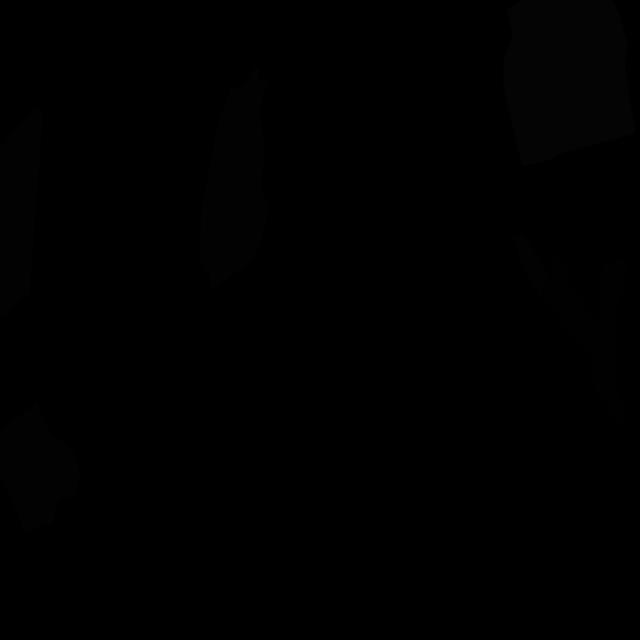cardboard: (200, 67, 270, 291), (0, 403, 80, 532), (0, 106, 43, 319), (512, 234, 548, 297)
rigid_plastic: (590, 258, 629, 427), (539, 252, 596, 356)
soft_plastic: (503, 0, 636, 166)
